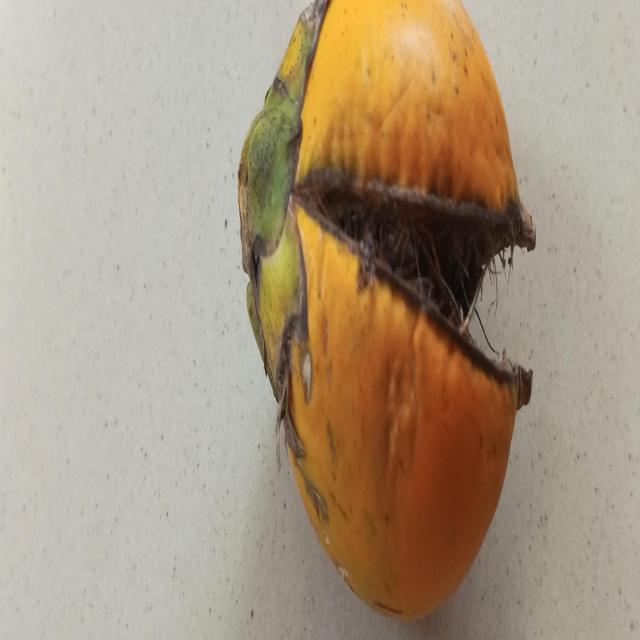damaged: (237, 0, 536, 623)
